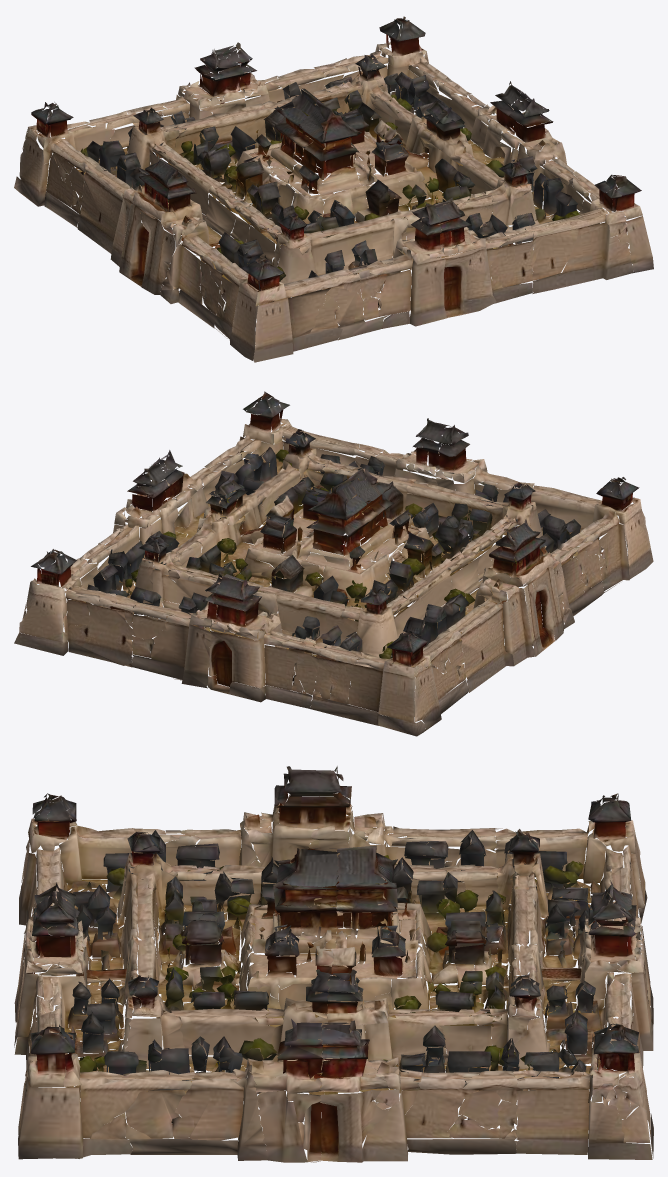
Rendered from city-capital.glb.
3 renders of one model, top to bottom at view 1: azimuth 30°, elevation 25°; view 2: azimuth 150°, elevation 25°; view 3: azimuth 270°, elevation 25°, orthographic. The views are drawn at different scales.
Visible parts, largest first — view 1: x-city-capital; view 2: x-city-capital; view 3: x-city-capital.
Boxes of the visible parts, bbox=[...] form: x-city-capital: bbox=[14, 16, 653, 362]; x-city-capital: bbox=[14, 391, 653, 736]; x-city-capital: bbox=[14, 766, 653, 1162].
Bounding box in the file's own units: 1.13 × 0.3494 × 1.15.
1 material, 1 textured.
